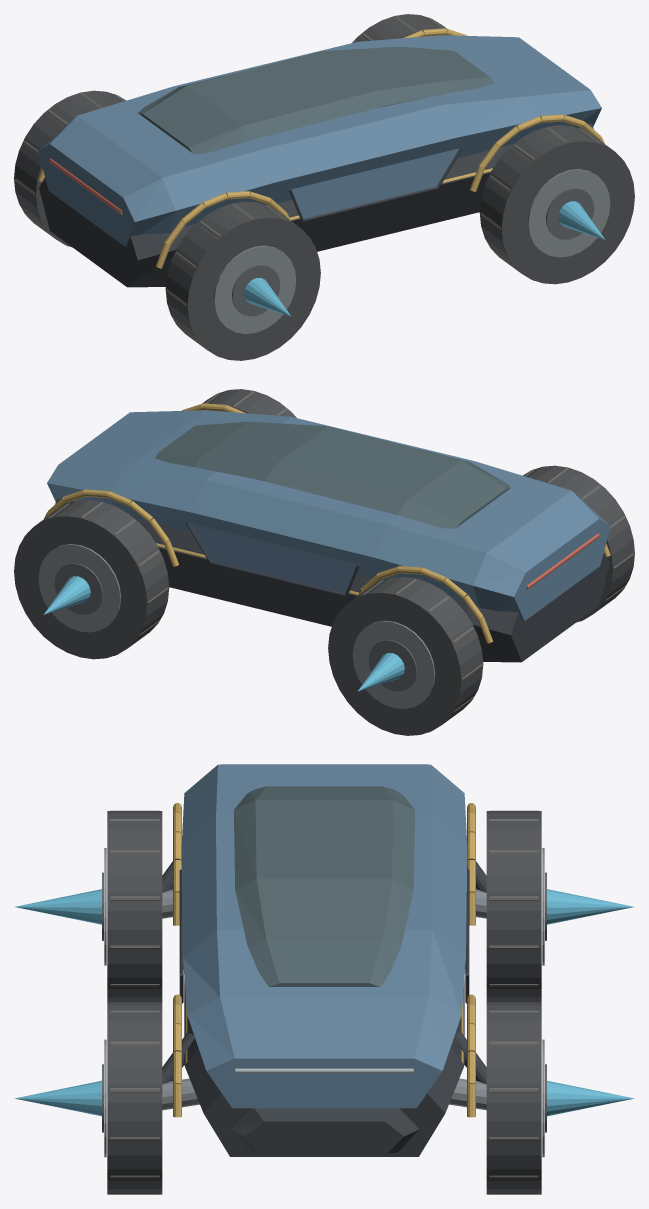
Rendered from maxhog_blue_rig.glb.
3 renders of one model, top to bottom at view 1: azimuth 30°, elevation 25°; view 2: azimuth 150°, elevation 25°; view 3: azimuth 270°, elevation 25°, orthographic. The views are drawn at different scales.
Parts seen in each view (by area): view 1: body_shell_1, glass_canopy_2, rear_right__tires_20, front_right__tires_24, lower_chassis_0, door_panel_6, rear_left__tires_10, front_right__wheel_hubs_25, rear_right__wheel_hubs_21, wheel_arch_9, front_left__tires_16, rear_right__wheel_centers_22 (+4 smaller); view 2: body_shell_1, glass_canopy_2, rear_left__tires_10, front_left__tires_16, lower_chassis_0, door_panel_6, rear_right__tires_20, front_left__wheel_hubs_17, rear_left__wheel_hubs_11, wheel_arch_9, front_right__tires_24, rear_left__wheel_centers_12 (+4 smaller); view 3: body_shell_1, glass_canopy_2, rear_left__tires_10, rear_right__tires_20, front_left__tires_16, front_right__tires_24, front_bumper_3, lower_chassis_0, wheel_arch_9, suspension_arm_13, flame_rear_left, flame_rear_right (+9 smaller).
Boxes of the visible parts, bbox=[...] form: body_shell_1: bbox=[38, 35, 601, 246]; glass_canopy_2: bbox=[138, 46, 493, 153]; rear_right__tires_20: bbox=[165, 201, 320, 360]; front_right__tires_24: bbox=[479, 125, 634, 284]; lower_chassis_0: bbox=[39, 124, 593, 287]; door_panel_6: bbox=[291, 148, 459, 218]; rear_left__tires_10: bbox=[14, 90, 125, 247]; front_right__wheel_hubs_25: bbox=[527, 169, 610, 257]; rear_right__wheel_hubs_21: bbox=[213, 245, 296, 333]; wheel_arch_9: bbox=[38, 28, 604, 268]; front_left__tires_16: bbox=[352, 14, 446, 42]; rear_right__wheel_centers_22: bbox=[232, 265, 280, 316]; body_shell_1: bbox=[47, 410, 610, 621]; glass_canopy_2: bbox=[155, 421, 510, 528]; rear_left__tires_10: bbox=[328, 576, 483, 735]; front_left__tires_16: bbox=[14, 500, 169, 659]; lower_chassis_0: bbox=[55, 498, 609, 662]; door_panel_6: bbox=[189, 523, 357, 593]; rear_right__tires_20: bbox=[523, 465, 634, 622]; front_left__wheel_hubs_17: bbox=[38, 544, 121, 632]; rear_left__wheel_hubs_11: bbox=[352, 620, 435, 708]; wheel_arch_9: bbox=[44, 403, 610, 643]; front_right__tires_24: bbox=[202, 389, 296, 417]; rear_left__wheel_centers_12: bbox=[368, 640, 416, 691]; body_shell_1: bbox=[181, 764, 467, 1108]; glass_canopy_2: bbox=[234, 786, 414, 986]; rear_left__tires_10: bbox=[486, 811, 541, 1002]; rear_right__tires_20: bbox=[107, 811, 162, 1002]; front_left__tires_16: bbox=[486, 1002, 541, 1194]; front_right__tires_24: bbox=[107, 1002, 162, 1194]; front_bumper_3: bbox=[229, 1108, 419, 1153]; lower_chassis_0: bbox=[184, 979, 464, 1156]; wheel_arch_9: bbox=[173, 803, 475, 1117]; suspension_arm_13: bbox=[162, 889, 486, 1110]; flame_rear_left: bbox=[547, 889, 634, 924]; flame_rear_right: bbox=[14, 889, 101, 924].
Bounding box in the file's own units: 5.04 × 1.81 × 4.52.
